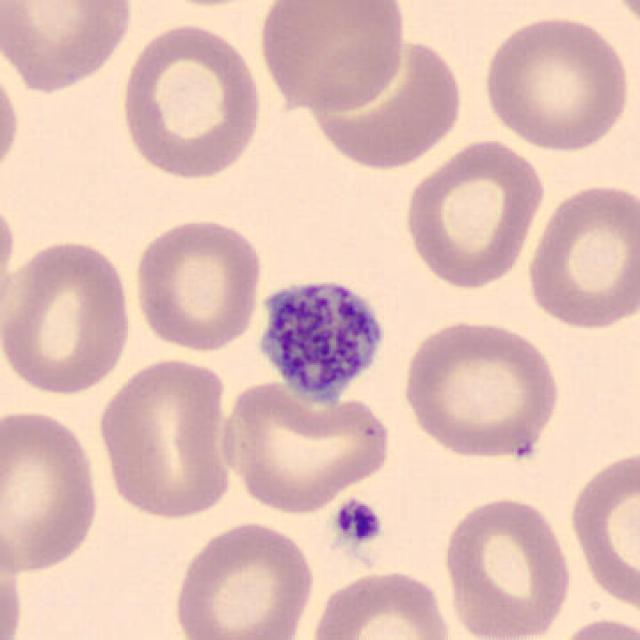Platelets: (245, 279, 386, 409), (330, 497, 386, 547)
RBC: (215, 372, 397, 517), (398, 316, 566, 462), (92, 352, 236, 522), (116, 20, 266, 182), (400, 136, 548, 291), (0, 233, 137, 398), (478, 9, 633, 153), (437, 492, 576, 640), (312, 37, 465, 171), (130, 213, 266, 354), (254, 0, 411, 115), (171, 518, 318, 640), (0, 406, 103, 578), (523, 178, 638, 332), (0, 0, 139, 95), (566, 444, 638, 617), (308, 566, 455, 640), (0, 518, 28, 639), (0, 54, 23, 188), (0, 187, 20, 335), (547, 613, 638, 640), (604, 0, 639, 42)
